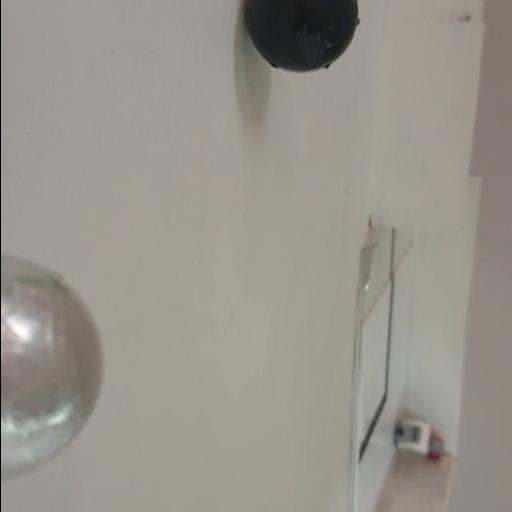alive: (0, 252, 104, 482)
dead: (242, 0, 362, 74)
